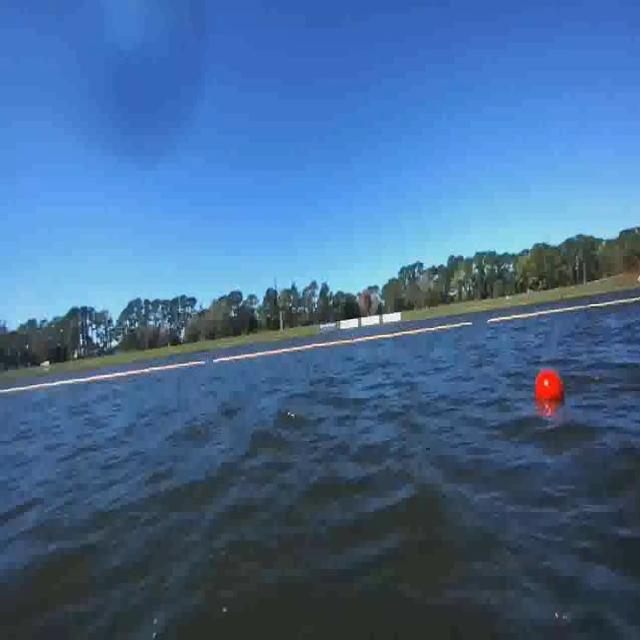red-buoy: (535, 370, 563, 403)
